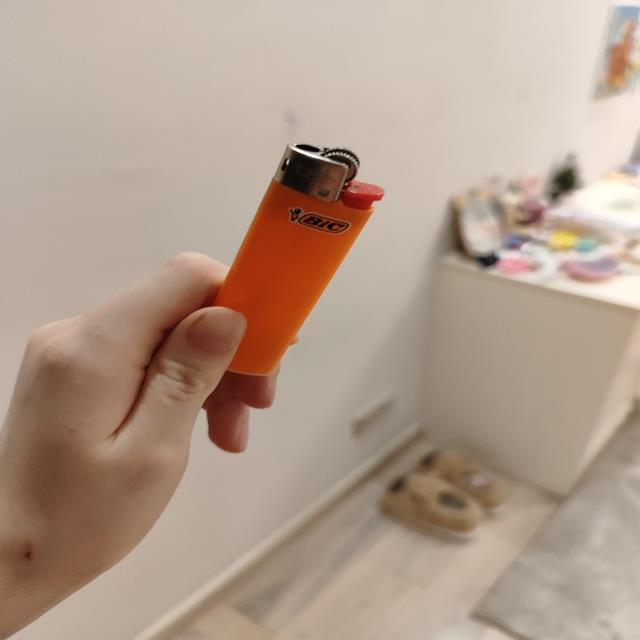lighter: (213, 144, 382, 377)
